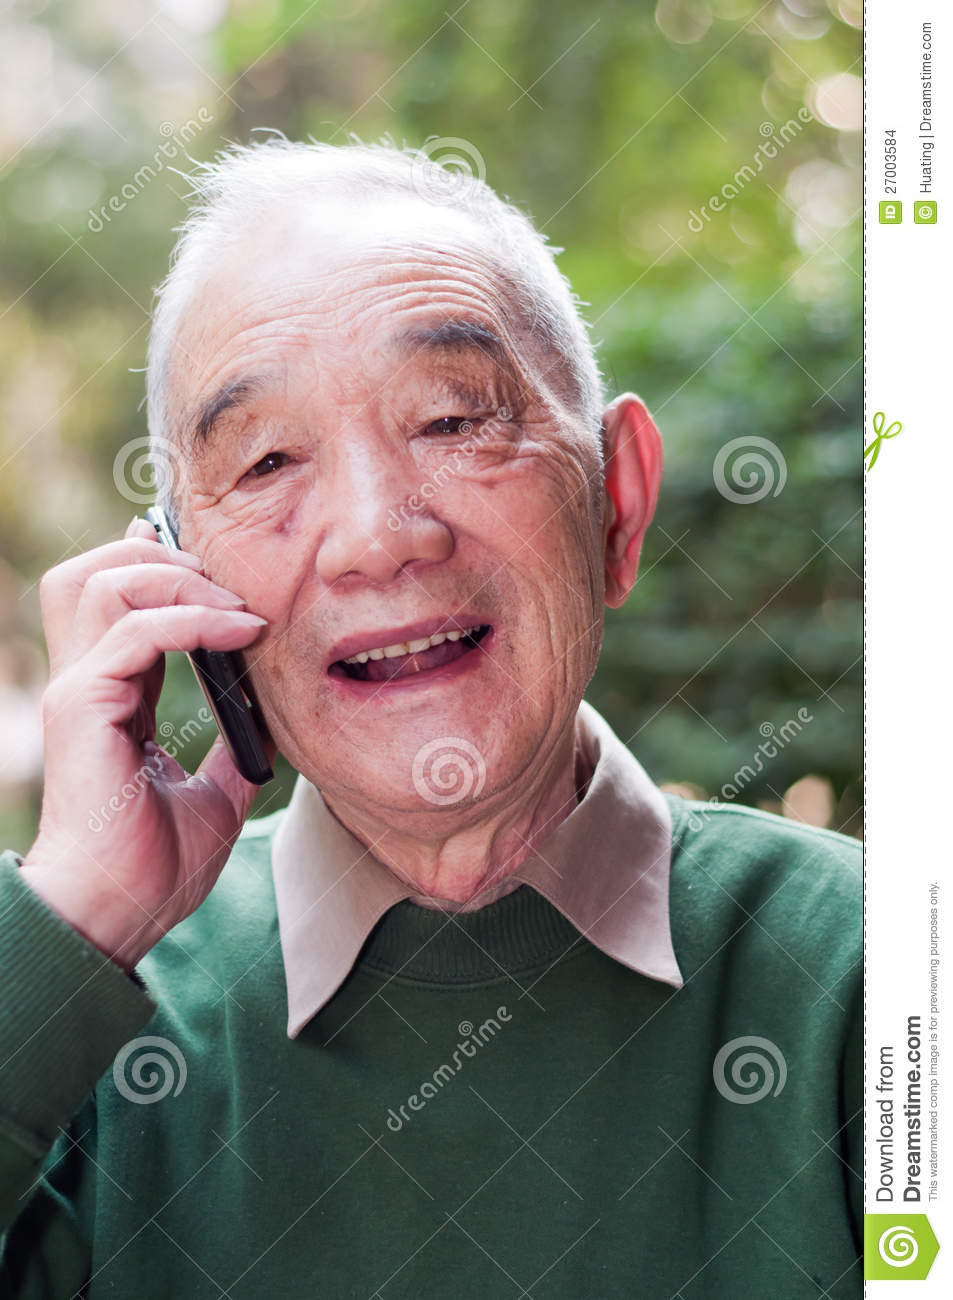phone: (139, 496, 270, 781)
talk: (35, 294, 532, 965)
